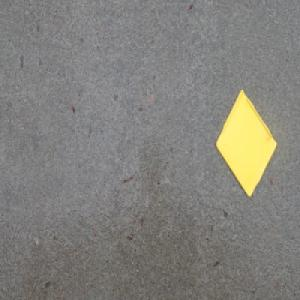PlasticPart: (213, 90, 277, 200)
